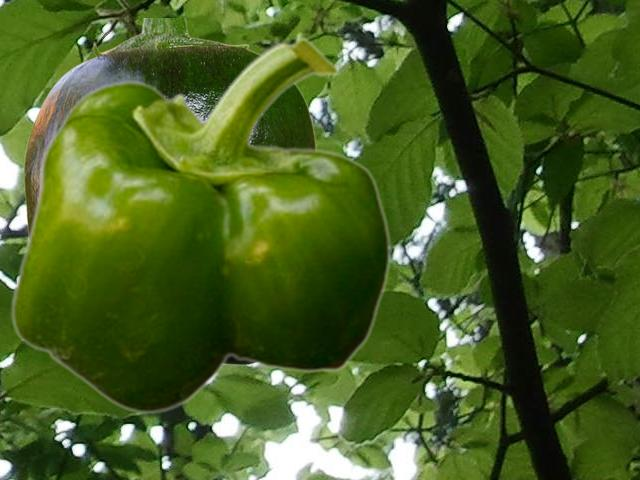bell_pepper: (10, 37, 390, 414), (23, 18, 316, 366)
